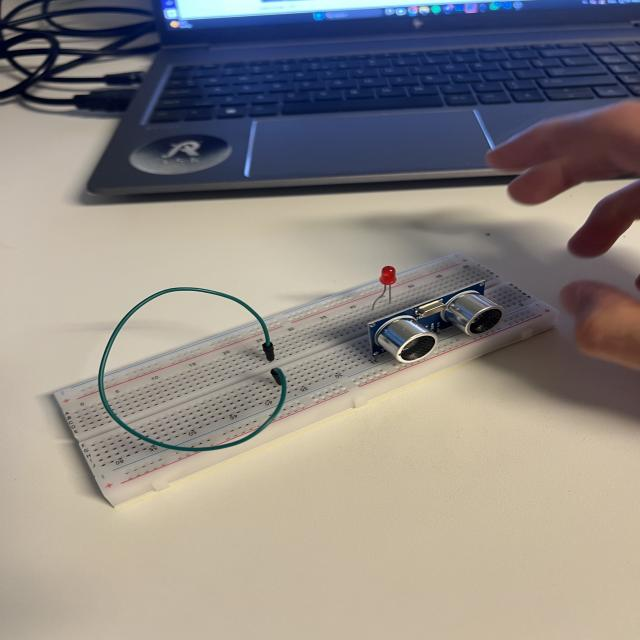BreadBoard: (56, 252, 483, 493)
REDLed: (368, 262, 406, 313)
UltrasoneSensor: (361, 275, 515, 367)
